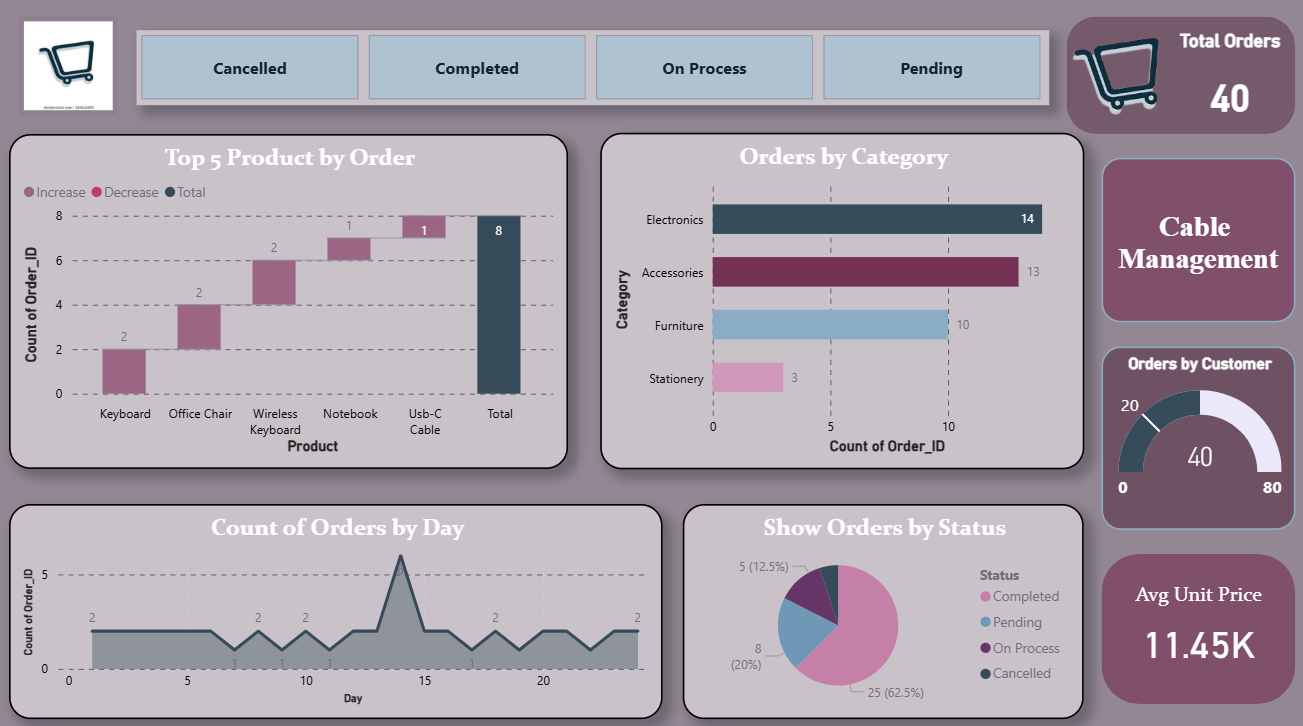

The dashboard page shown, as its layout file describes it:
{"tool":"powerbi","page":{"name":"Order","canvas":[1280,720],"ordinal":1},"visuals":[{"type":"areaChart","title":"Count of Orders by Day","fields":{"Category":["Raw Sales Data.Date.Variation.Date Hierarchy.Day"],"Y":["CountNonNull(Raw Sales Data.Order_ID)"]},"box":[9.8,500.6,641.7,211],"z":0},{"type":"pieChart","title":"Show Orders by Status","fields":{"Category":["Raw Sales Data.Status"],"Y":["CountNonNull(Raw Sales Data.Order_ID)"]},"box":[671.2,500.6,393.9,211],"z":1000},{"type":"shape","box":[1047.9,22.1,224.5,115.3],"z":2000},{"type":"card","title":"Total Orders ","fields":{"Values":["CountNonNull(Raw Sales Data.Order_ID)"]},"box":[1152.2,35.6,112.9,90.8],"z":3000},{"type":"image","box":[1022.1,6.1,155.8,154.6],"z":4000},{"type":"gauge","title":"Orders by Customer","fields":{"Y":["CountNonNull(Raw Sales Data.Order_ID)"],"TargetValue":["Count(Raw Sales Data.Customer_Name)"]},"box":[1082.2,346,190.2,180.4],"z":5000},{"type":"shape","box":[1082.2,549.7,190.2,147.2],"z":6000},{"type":"card","title":"Avg Unit Price","fields":{"Values":["Avg(Raw Sales Data.Unit_Price)"]},"box":[1109.2,576.7,137.4,93.3],"z":7000},{"type":"waterfallChart","title":"Top 5 Product by Order","fields":{"Category":["Raw Sales Data.Product"],"Y":["CountNonNull(Raw Sales Data.Order_ID)"]},"box":[9.8,137.4,548.5,328.8],"z":8000},{"type":"clusteredBarChart","title":"Orders by Category","fields":{"Y":["CountNonNull(Raw Sales Data.Order_ID)"],"Category":["Raw Sales Data.Category"]},"box":[590.2,136.2,474.8,330.1],"z":9000},{"type":"card","fields":{"Values":["Min(Raw Sales Data.Product)"]},"box":[1082.2,160.7,190.2,162],"z":10000},{"type":"advancedSlicerVisual","fields":{"Values":["Raw Sales Data.Status"]},"box":[135,35.6,895.7,73.6],"z":11000},{"type":"image","box":[19.6,22.1,96.9,96.9],"z":12000}]}

Visuals, with their boxes in screenshot pixels (x1, y1, x2, y2), scaled from the page's 1280x720 canvas onto the 1303x726 screenshot:
"Count of Orders by Day" areaChart: pyautogui.locateOnScreen(10, 505, 663, 718)
"Show Orders by Status" pieChart: pyautogui.locateOnScreen(683, 505, 1084, 718)
shape: pyautogui.locateOnScreen(1067, 22, 1295, 139)
"Total Orders " card: pyautogui.locateOnScreen(1173, 36, 1288, 127)
image: pyautogui.locateOnScreen(1040, 6, 1199, 162)
"Orders by Customer" gauge: pyautogui.locateOnScreen(1102, 349, 1295, 531)
shape: pyautogui.locateOnScreen(1102, 554, 1295, 703)
"Avg Unit Price" card: pyautogui.locateOnScreen(1129, 582, 1269, 676)
"Top 5 Product by Order" waterfallChart: pyautogui.locateOnScreen(10, 139, 568, 470)
"Orders by Category" clusteredBarChart: pyautogui.locateOnScreen(601, 137, 1084, 470)
card - Min(Raw Sales Data.Product): pyautogui.locateOnScreen(1102, 162, 1295, 325)
advancedSlicerVisual - Raw Sales Data.Status: pyautogui.locateOnScreen(137, 36, 1049, 110)
image: pyautogui.locateOnScreen(20, 22, 119, 120)
